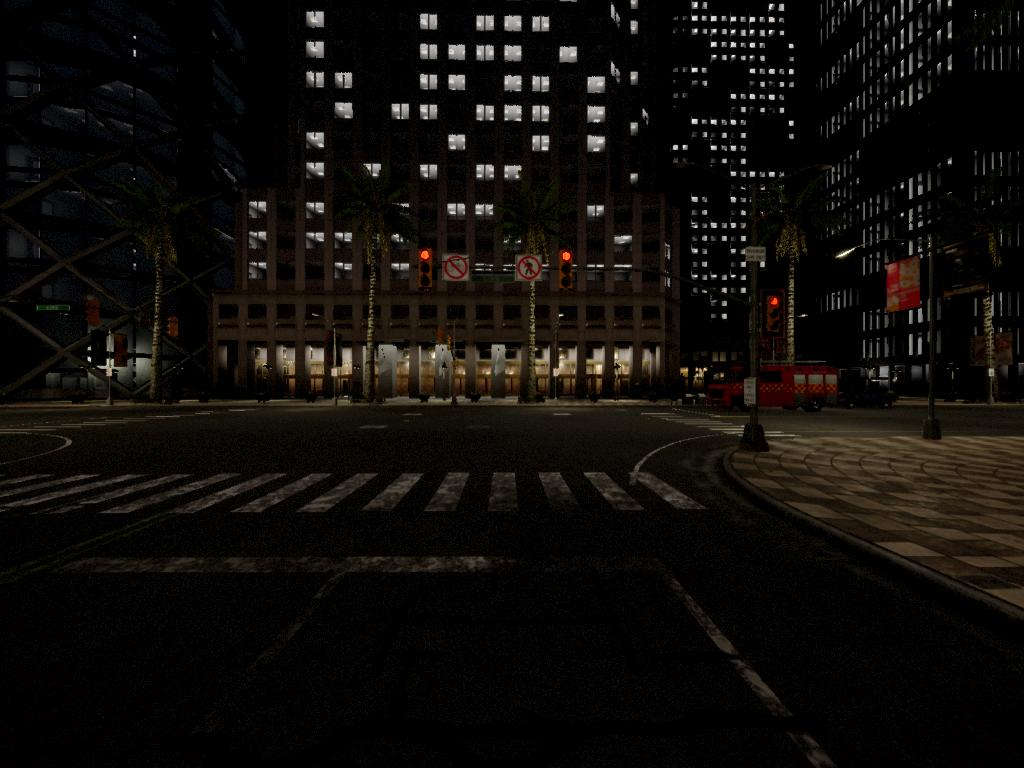traffic_light: (764, 294, 788, 338), (559, 254, 575, 295), (420, 251, 436, 291)
